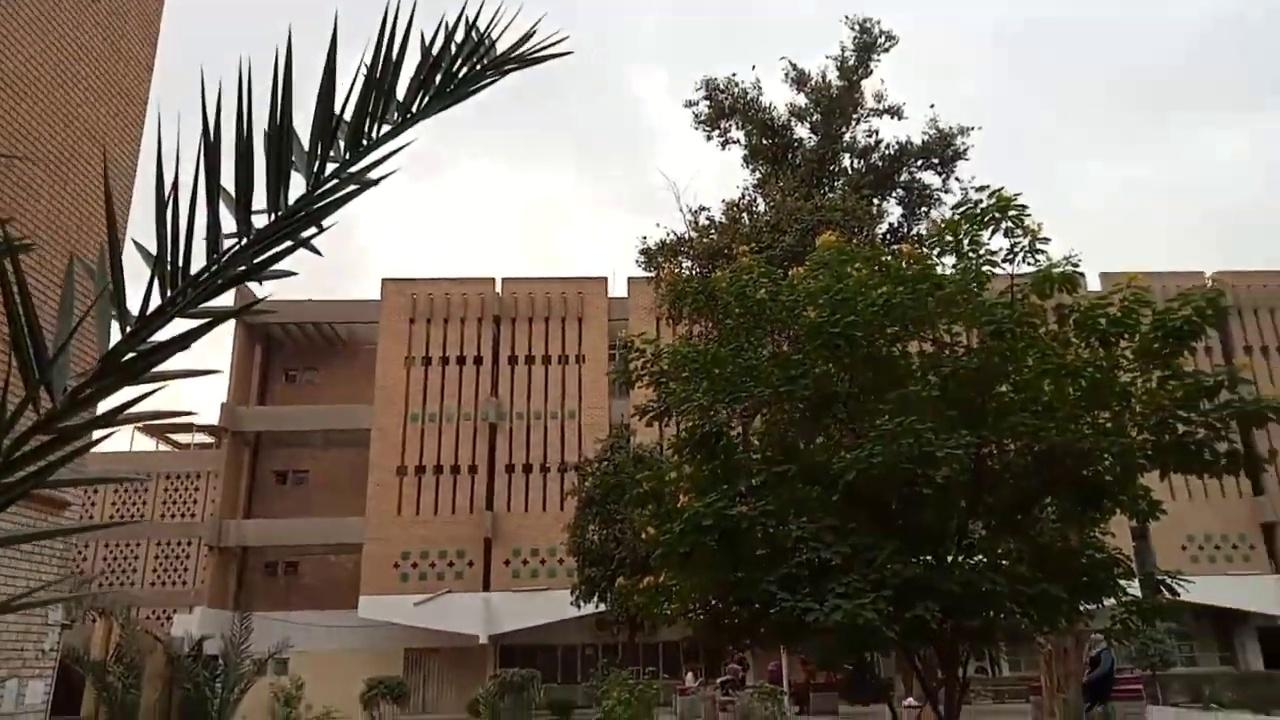person: (1081, 632, 1115, 717), (792, 654, 816, 715), (724, 651, 749, 692)
tree: (562, 13, 1277, 717), (0, 0, 573, 717), (167, 609, 294, 718), (61, 603, 161, 718), (580, 659, 662, 718), (480, 665, 543, 718), (358, 674, 409, 718)
